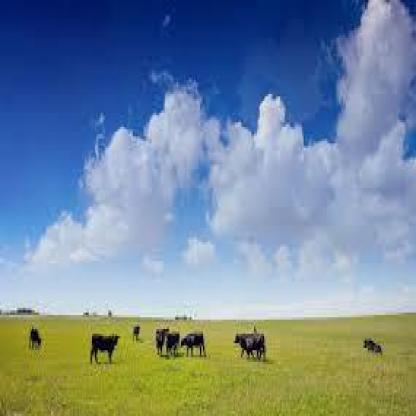cow: (233, 330, 266, 363), (89, 332, 120, 364), (180, 332, 207, 358), (163, 330, 181, 358), (362, 336, 382, 357), (28, 326, 44, 352), (155, 326, 166, 360), (132, 323, 142, 342)
